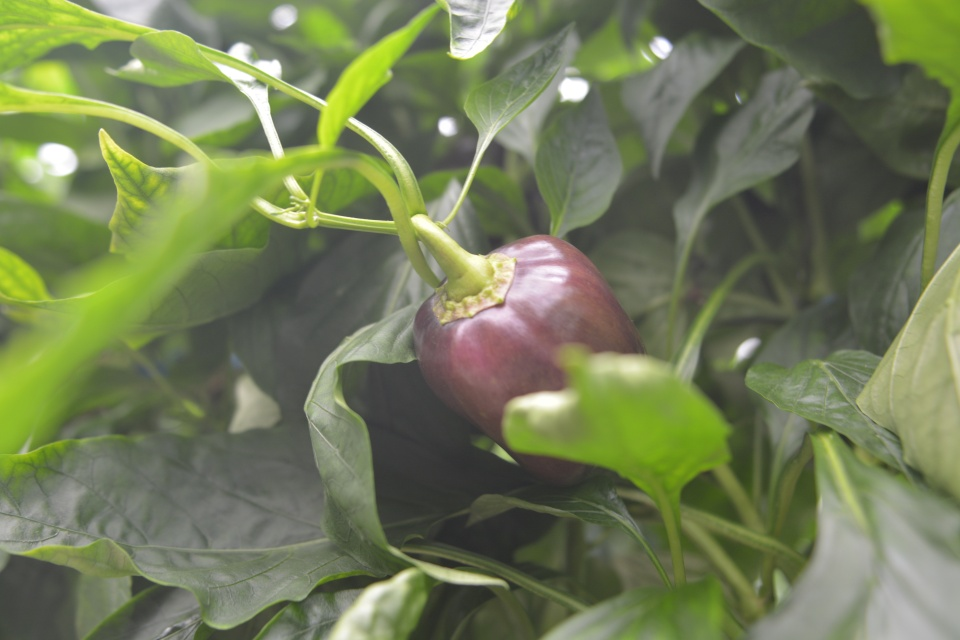fruit: (412, 234, 649, 487)
pedicle: (435, 252, 518, 320)
